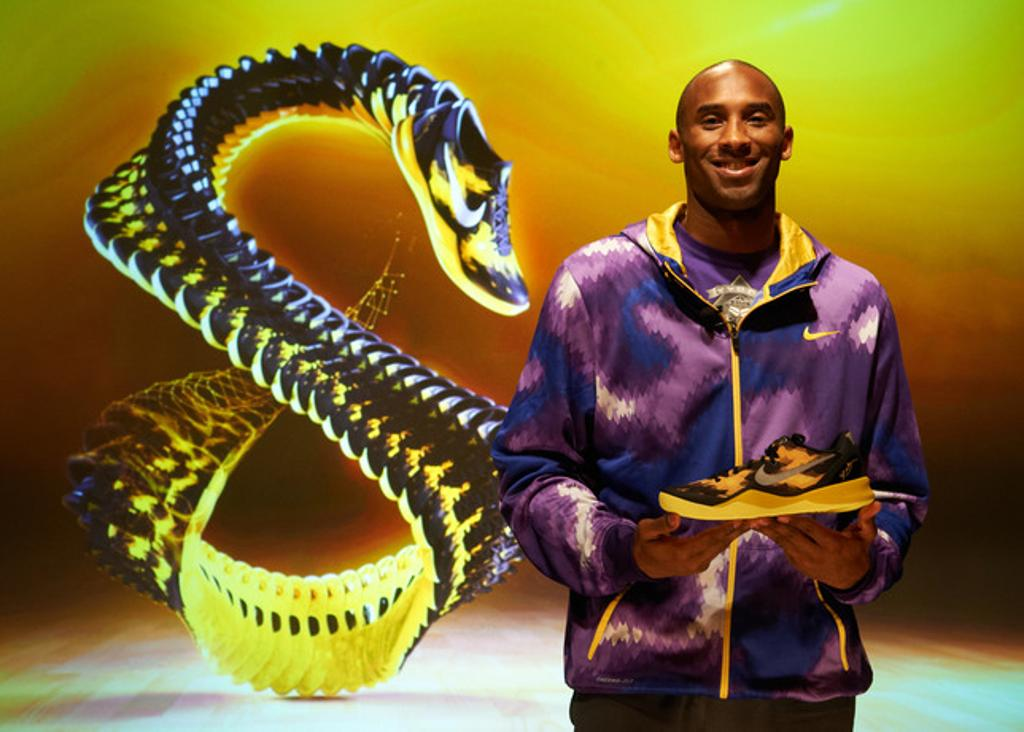face: (680, 70, 782, 208)
